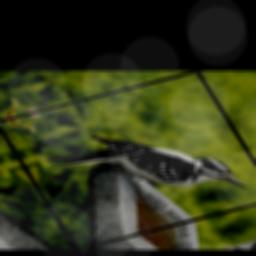Woodpecker: (38, 108, 252, 229)
